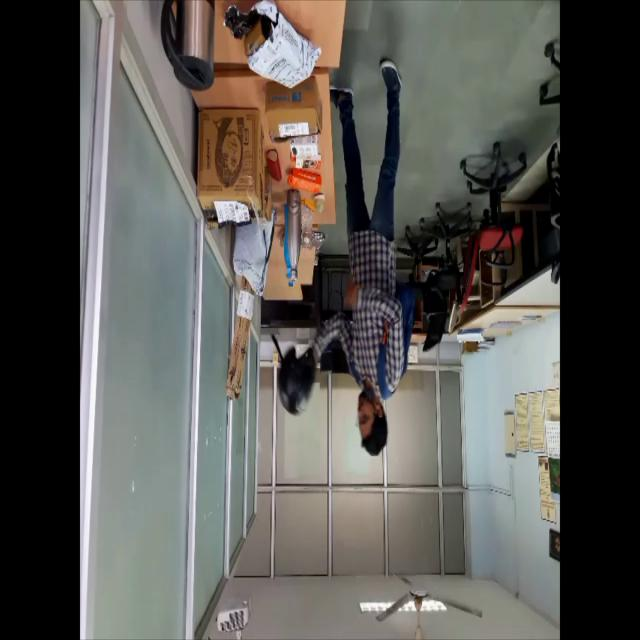normal: (273, 0, 424, 463)
